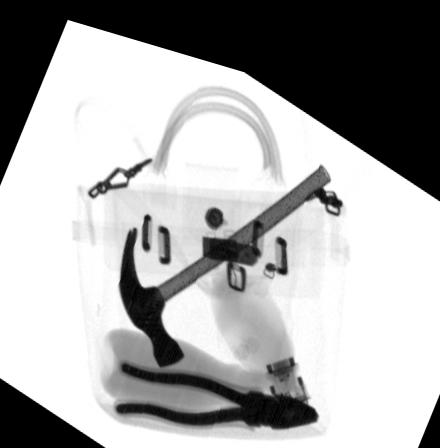Hammer: (118, 144, 332, 358)
Pliers: (113, 352, 320, 416)
